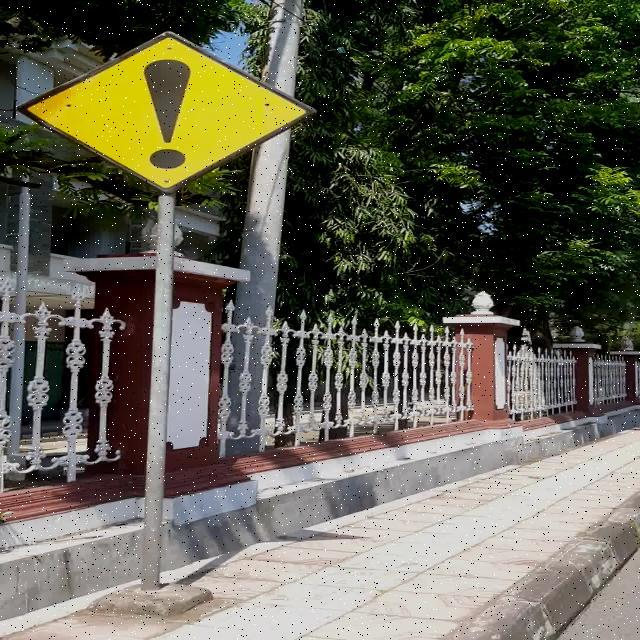Hati-Hati: (16, 31, 316, 192)
